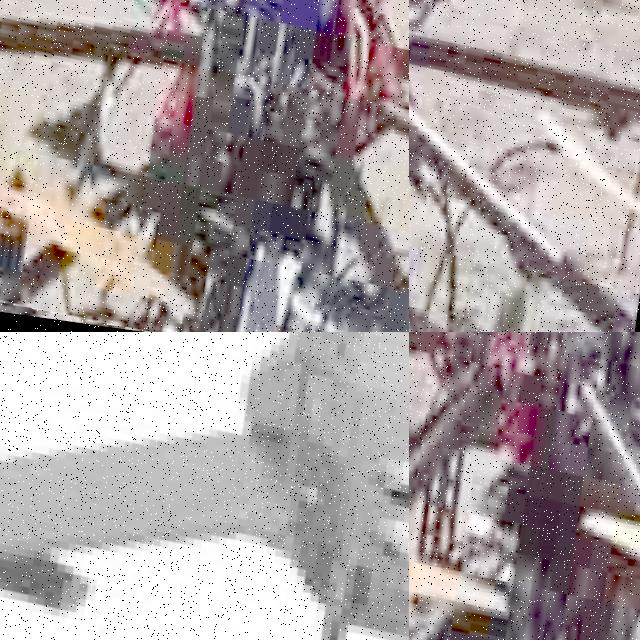drone: (0, 0, 409, 332), (0, 332, 409, 640), (409, 0, 640, 332), (409, 332, 640, 640)
